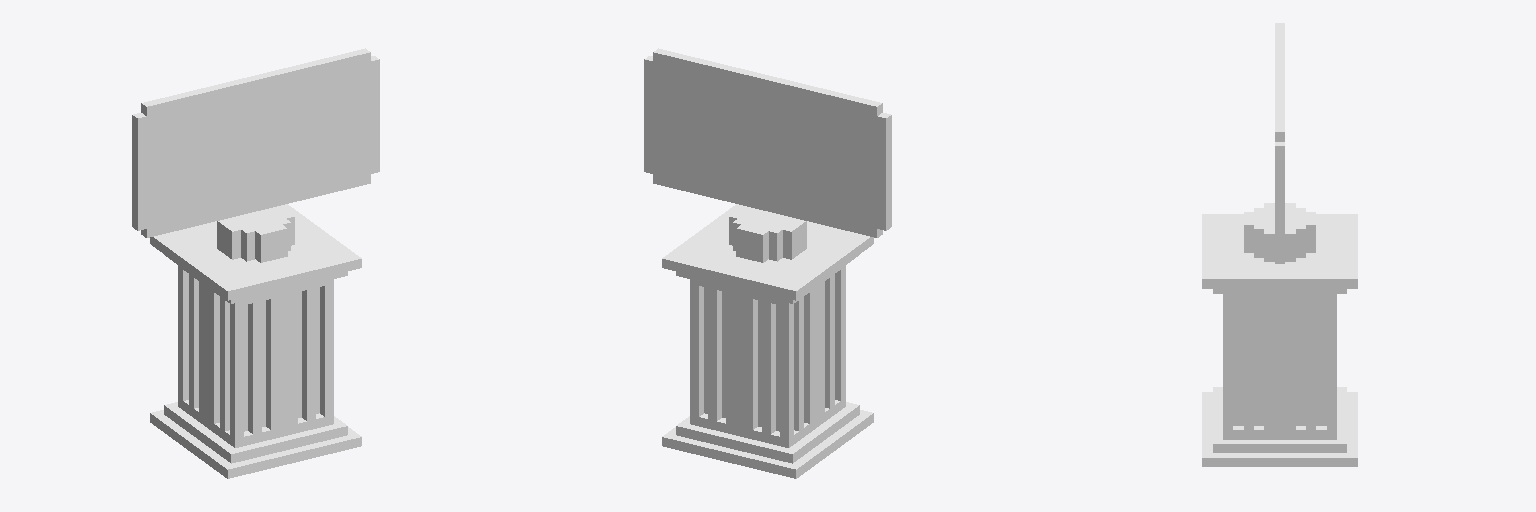
Rendered from catalog.obj.
3 views of the same model, side by side, from view 1: azimuth 30°, elevation 25°; view 2: azimuth 150°, elevation 25°; view 3: azimuth 270°, elevation 25° (orthographic).
Parts seen in each view (by area): view 1: object 1; view 2: object 1; view 3: object 1.
Boxes of the visible parts, x1,y1,x2,y2 form: object 1: [132, 48, 379, 478]; object 1: [644, 48, 891, 478]; object 1: [1202, 23, 1357, 466].
Bounding box in the file's own units: 2.7 × 3.8 × 1.5.